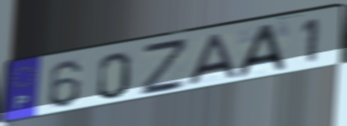0: (96, 49, 135, 100)
1: (299, 16, 321, 64)
6: (47, 57, 84, 110)
A: (234, 21, 289, 81), (185, 32, 239, 88)
Z: (139, 38, 188, 98)
